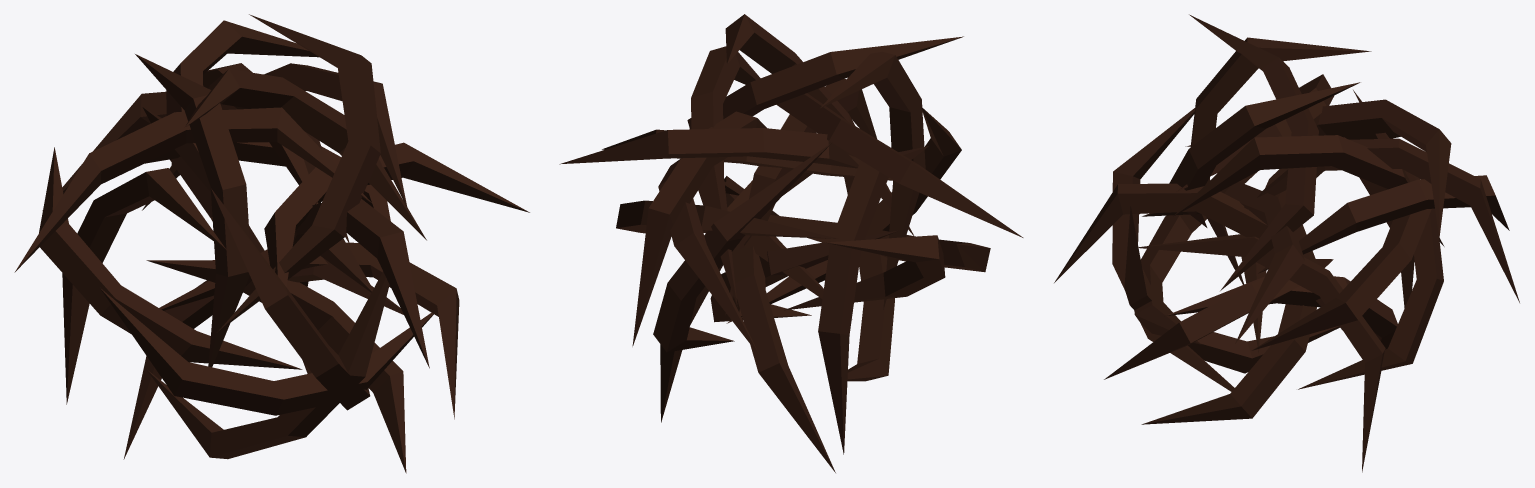
The model's file is Tumbleweed.obj.
The picture shows the model from 3 angles, left to right: view 1: azimuth 30°, elevation 25°; view 2: azimuth 150°, elevation 25°; view 3: azimuth 270°, elevation 25°; orthographic projection. The views are drawn at different scales.
Parts seen in each view (by area): view 1: Tumbleweed_Cube.001; view 2: Tumbleweed_Cube.001; view 3: Tumbleweed_Cube.001.
Boxes of the visible parts, box(x1,y1,x2,y2) form: Tumbleweed_Cube.001: box(14, 14, 529, 473); Tumbleweed_Cube.001: box(559, 14, 1023, 472); Tumbleweed_Cube.001: box(1054, 14, 1519, 472).
Size of the model in its own units: 5.27 by 4.29 by 4.96.
